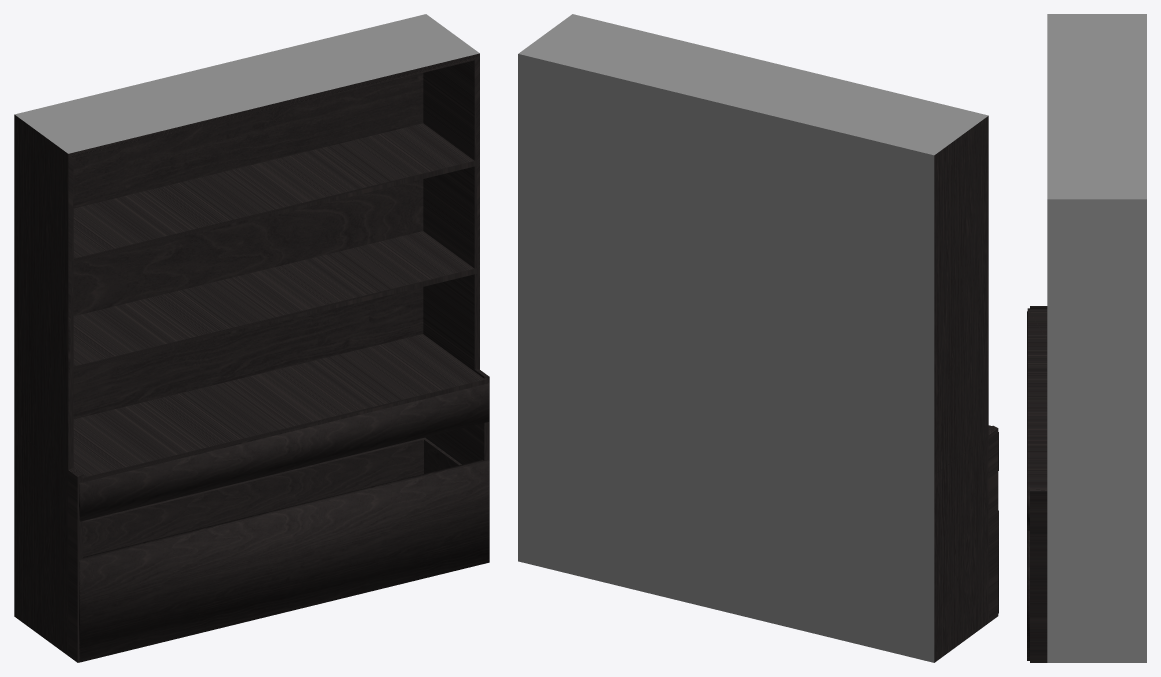
Rendered from Bookshelf_Openable_COL.FBX.
3 renders of one model, left to right at view 1: azimuth 30°, elevation 25°; view 2: azimuth 150°, elevation 25°; view 3: azimuth 270°, elevation 25°, orthographic. The views are drawn at different scales.
Visible parts, largest first — view 1: BookShelf_Openable_COL, Bookshelf_Drawer_Large_COL, Bookshelf_Drawer_Small_COL; view 2: BookShelf_Openable_COL; view 3: BookShelf_Openable_COL, Bookshelf_Drawer_Large_COL, Bookshelf_Drawer_Small_COL.
Part boxes in pixels (x1=…): BookShelf_Openable_COL: x1=14, y1=14, x2=489, y2=662; Bookshelf_Drawer_Large_COL: x1=79, y1=437, x2=489, y2=662; Bookshelf_Drawer_Small_COL: x1=79, y1=383, x2=489, y2=521; BookShelf_Openable_COL: x1=518, y1=14, x2=998, y2=662; BookShelf_Openable_COL: x1=1027, y1=14, x2=1146, y2=662; Bookshelf_Drawer_Large_COL: x1=1027, y1=530, x2=1029, y2=660; Bookshelf_Drawer_Small_COL: x1=1027, y1=311, x2=1029, y2=530.
Bounding box in the file's own units: 202 × 235 × 55.05.
Materials: 2 (1 with a texture image).
